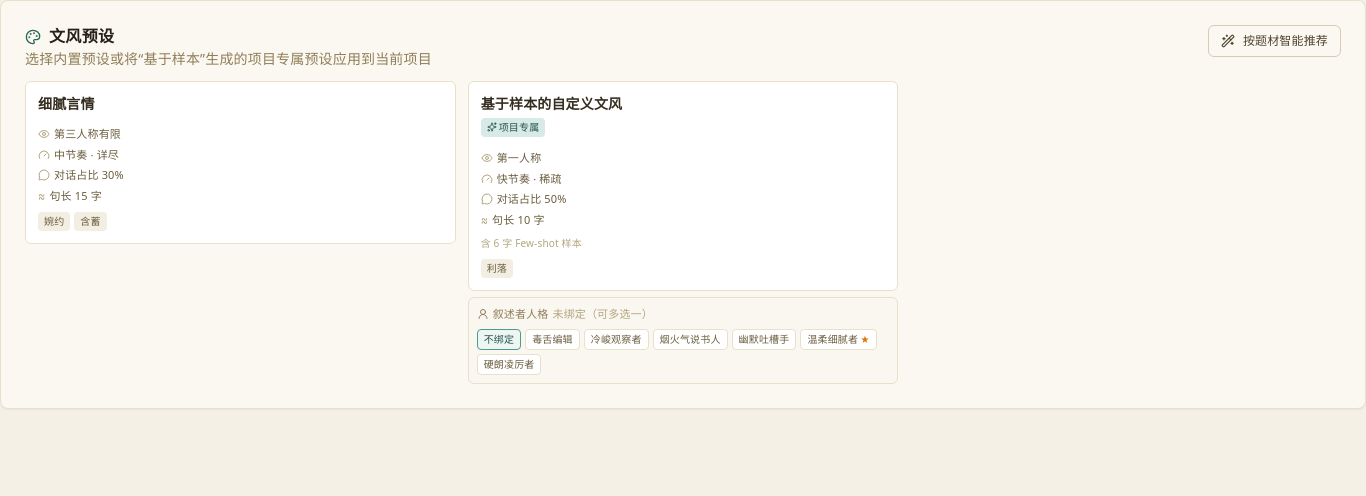
Test case: StyleSelector › 简介含「甜/宠」关键词时按简介微调推荐并给出对应理由
Expected: the text "细腻言情" is shown, [38, 94, 95, 114]
Click the button "按题材智能推荐": (1274, 41) [1208, 25, 1341, 57]
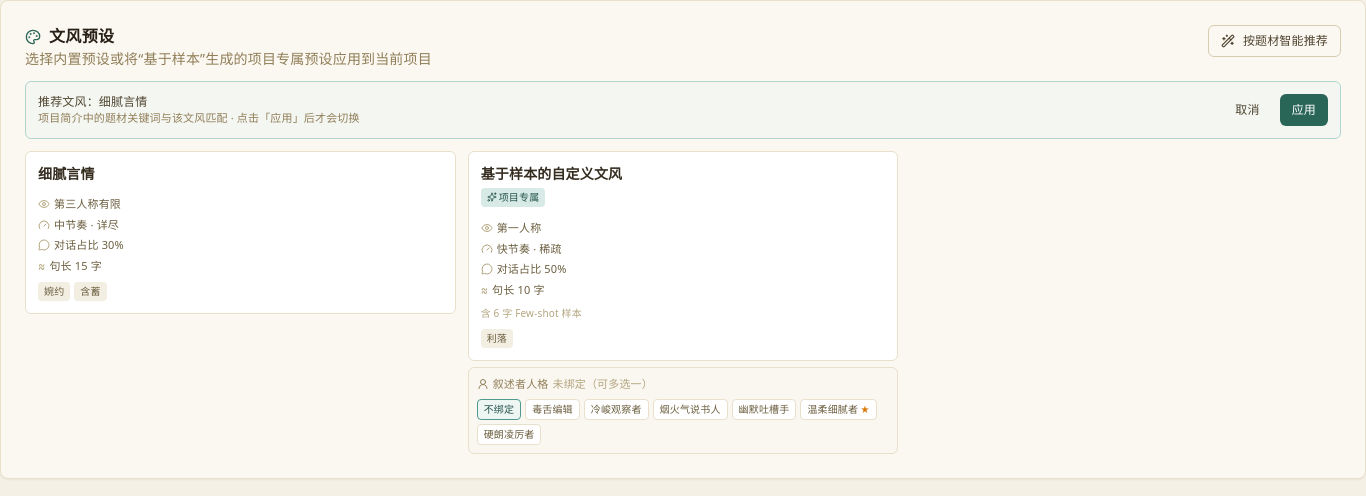
Now the text "推荐文风：细腻言情" is shown, box [38, 93, 148, 110]
Now the text "项目简介中的题材关键词与该文风匹配 · 点击「应用」后才会切换" is shown, box [38, 110, 360, 126]
